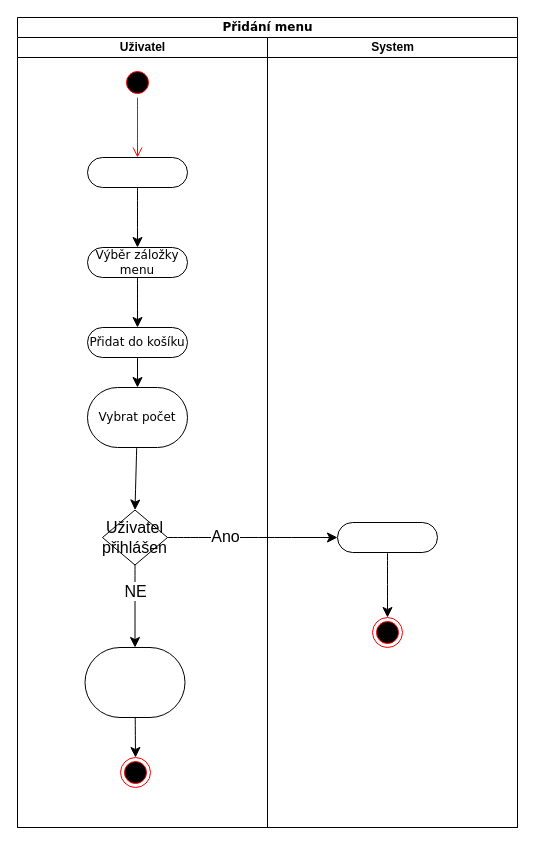
The diagram is 535 pixels wide and 845 high, and some of its shapes have lost their labels. Each missing label, with the centre of its shape:
Otevření webu: [137,172]
Přidat do DB: [387,537]
Přidat do místního uložiště: [134,682]
